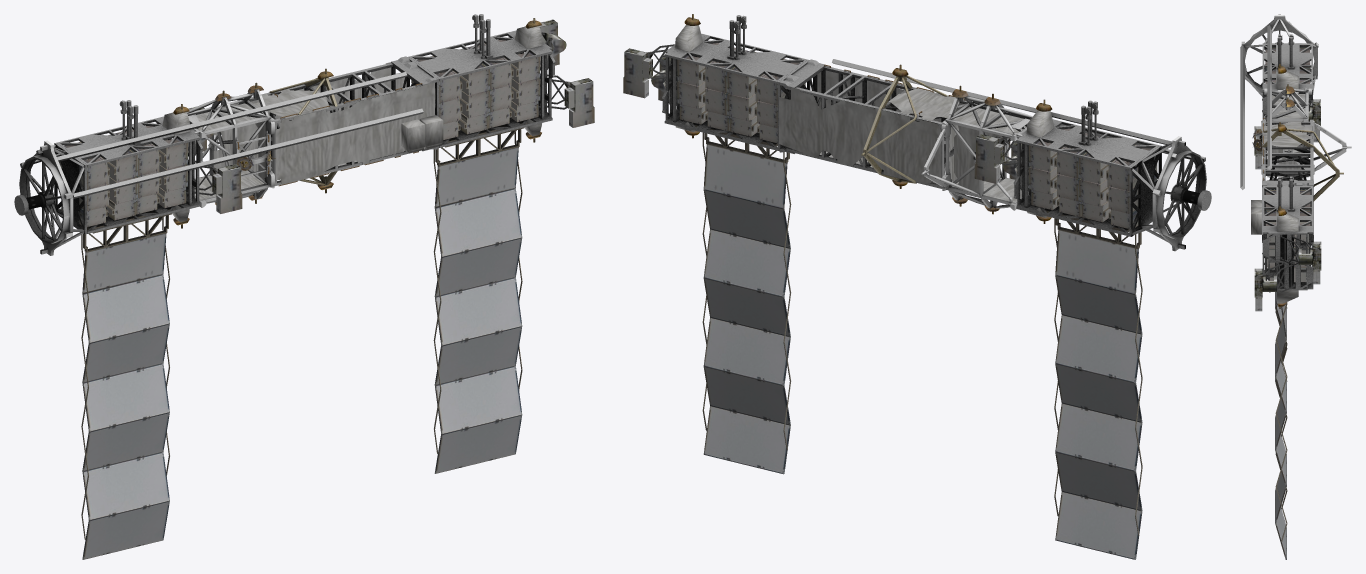
Rendered from p4_truss_20.dae.
3 views of the same model, side by side, from view 1: azimuth 30°, elevation 25°; view 2: azimuth 150°, elevation 25°; view 3: azimuth 270°, elevation 25° (orthographic). The views are drawn at different scales.
Visible parts, largest first — view 1: 08 P6 Truss, 20 P4 Truss, 21 P5 Truss; view 2: 08 P6 Truss, 20 P4 Truss, 21 P5 Truss; view 3: 08 P6 Truss, 20 P4 Truss, 21 P5 Truss.
Part boxes in pixels (x1,y1,x2,y2): 08 P6 Truss: (248,14,594,473); 20 P4 Truss: (14,72,423,559); 21 P5 Truss: (186,82,275,207); 08 P6 Truss: (623,14,967,474); 20 P4 Truss: (832,59,1211,559); 21 P5 Truss: (921,85,1032,214); 08 P6 Truss: (1251,121,1343,559); 20 P4 Truss: (1240,14,1320,417); 21 P5 Truss: (1252,84,1351,179).
Size of the model in its own units: 24.52 by 5.1 by 18.61.
6 materials, 6 textured.
